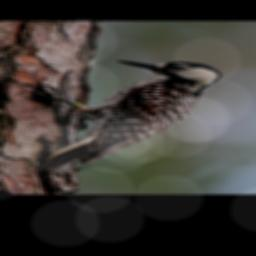Woodpecker: (24, 60, 222, 174)
